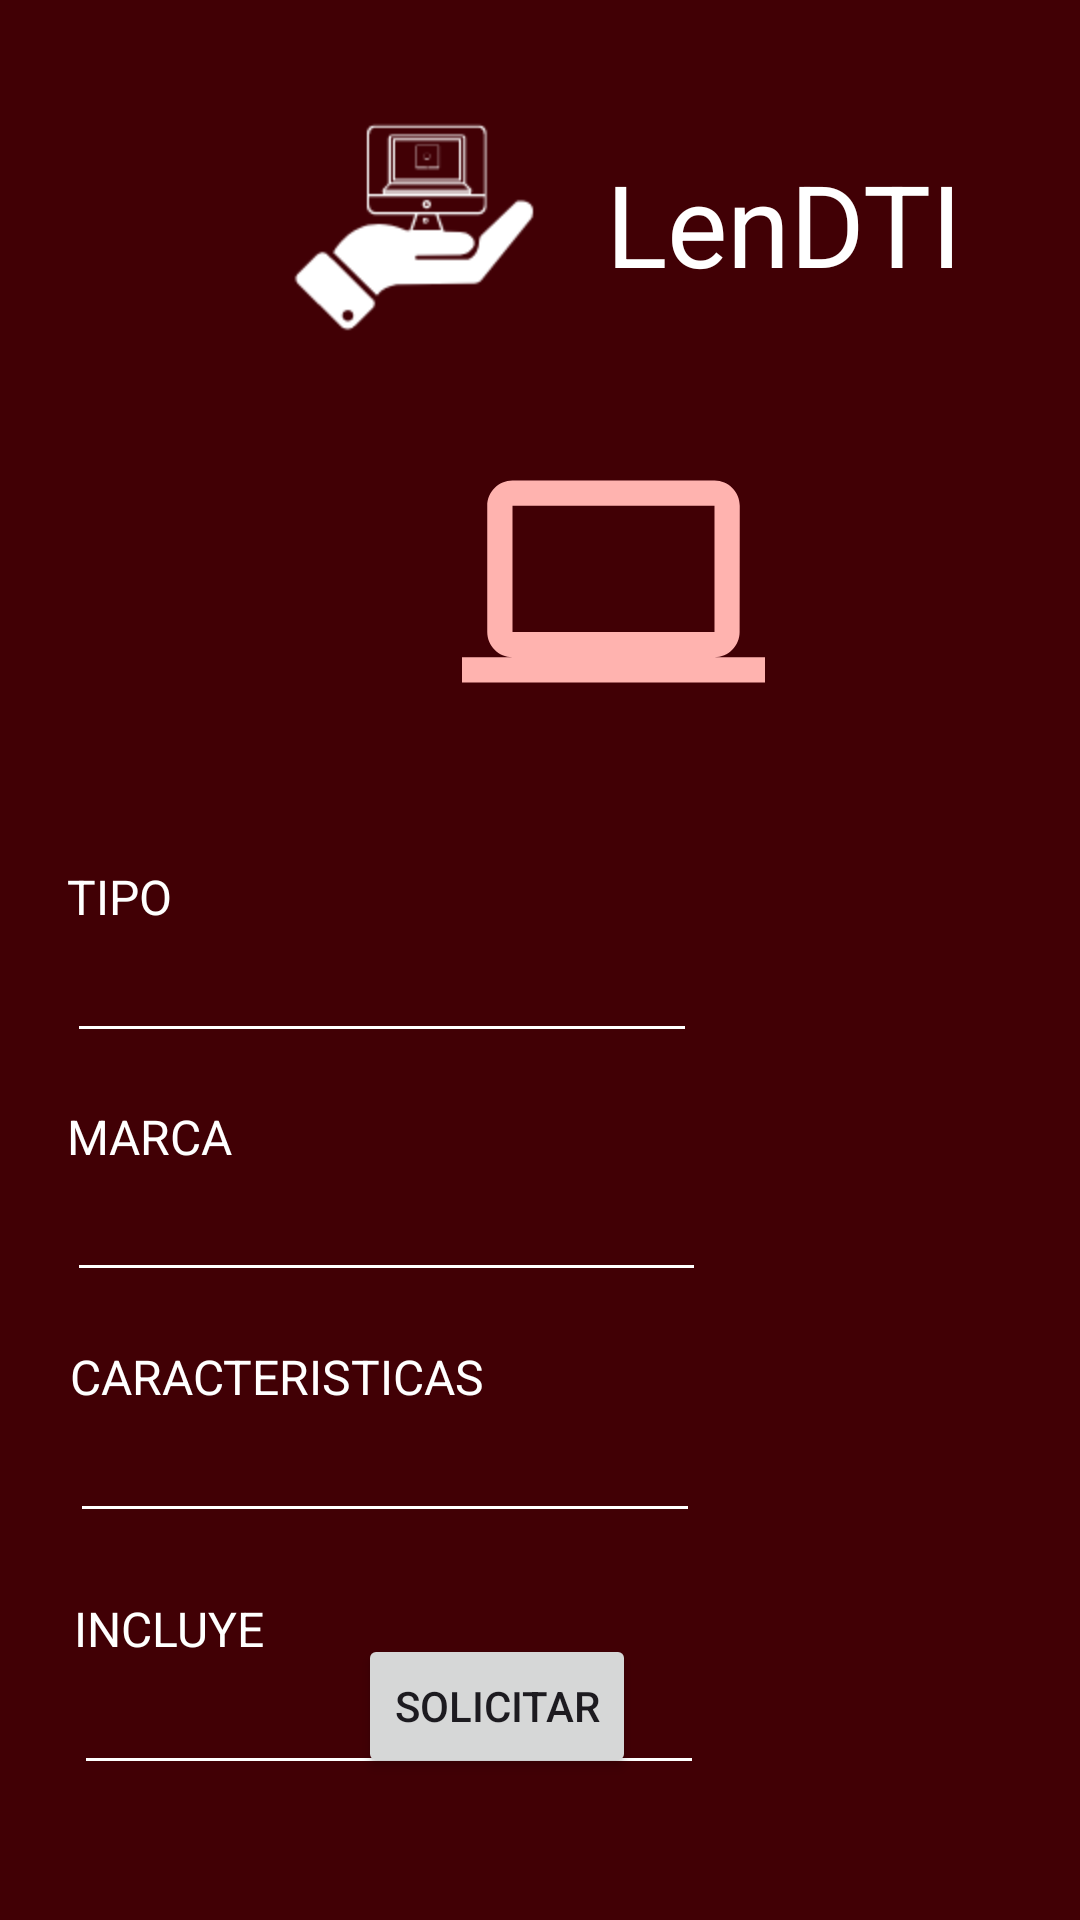

Icon click points for this 1080 x 1920 phone screenshot, format [x,y]:
computer: [613,581]
